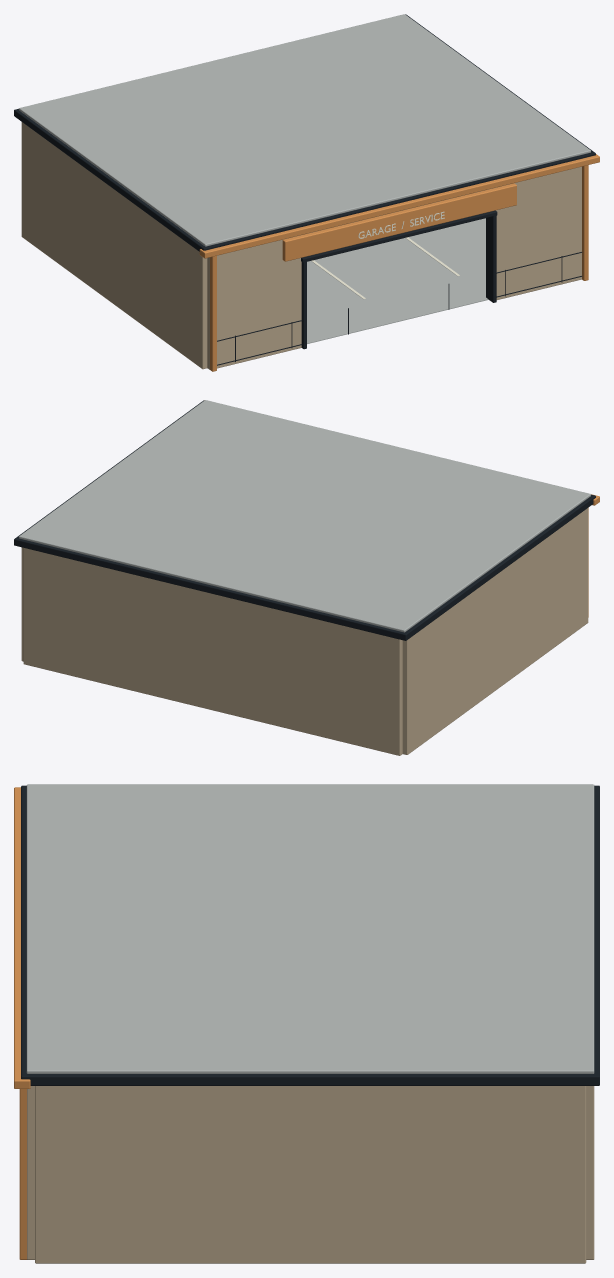
Rendered from garage.glb.
3 renders of one model, top to bottom at view 1: azimuth 30°, elevation 25°; view 2: azimuth 150°, elevation 25°; view 3: azimuth 270°, elevation 25°, orthographic. The views are drawn at different scales.
Parts seen in each view (by area): view 1: RoofSurface, LeftWall, InteriorFloor, FrontPier, FrontPier.001, SignBacking, RoofSlab, FacadeCornice, DoorHeaderInk, DoorJamb.001, CornerColumn, CornerColumn.001 (+1 smaller); view 2: RoofSurface, RearWall, LeftWall, RoofSlab; view 3: RoofSurface, RightWall, RoofSlab, FacadeCornice, RearWall, FrontPier.001, CornerColumn.001.
Part boxes in pixels (x1,y1,x2,y2): RoofSurface: (19,14,590,246); LeftWall: (21,122,207,369); InteriorFloor: (307,218,488,343); FrontPier: (207,235,301,369); FrontPier.001: (492,166,581,299); SignBacking: (282,183,516,261); RoofSlab: (14,14,595,251); FacadeCornice: (199,154,599,258); DoorHeaderInk: (301,210,497,262); DoorJamb.001: (486,215,496,302); CornerColumn: (210,255,216,371); CornerColumn.001: (582,165,588,280); RoofSurface: (19,400,590,632); RearWall: (23,548,402,755); LeftWall: (402,508,588,754); RoofSlab: (14,400,595,640); RoofSurface: (26,784,594,1073); RightWall: (35,1086,586,1263); RoofSlab: (21,785,599,1085); FacadeCornice: (14,787,30,1088); RearWall: (586,1086,594,1259); FrontPier.001: (27,1086,34,1259); CornerColumn.001: (19,1089,26,1259).
Size of the model in its own units: 12.6 by 3.87 by 10.63.
